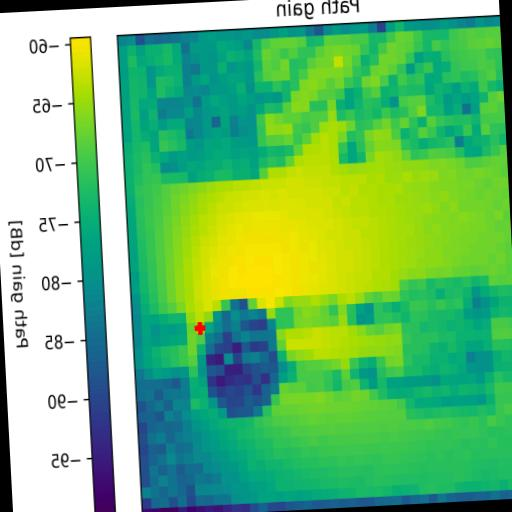Concrete: (154, 38, 268, 185)
Glass: (378, 36, 482, 162)
Metal: (194, 294, 281, 420)
Wood: (398, 274, 496, 419)
